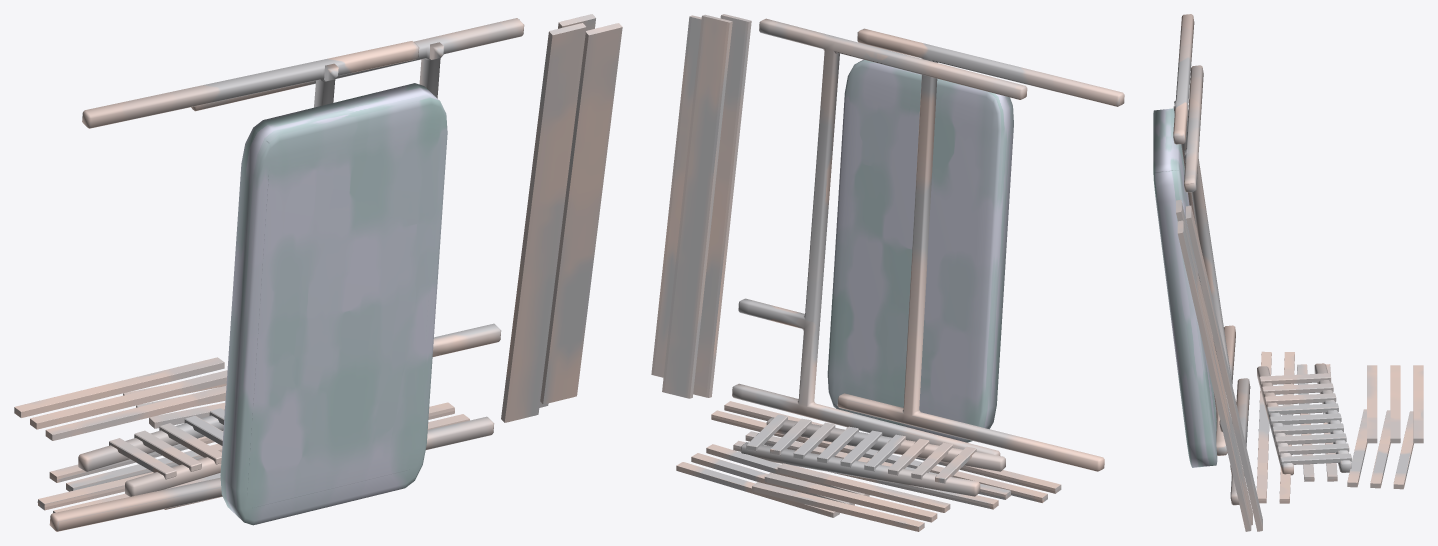
Rendered from Bunk-Bed-Disassembled.fbx.
The picture shows the model from 3 angles, left to right: view 1: azimuth 30°, elevation 25°; view 2: azimuth 150°, elevation 25°; view 3: azimuth 270°, elevation 25°; orthographic projection. The views are drawn at different scales.
Parts seen in each view (by area): view 1: mattress, frame, underframe; view 2: mattress, frame, underframe; view 3: frame, mattress, underframe.
Boxes of the visible parts, left/top/right/bottom form: mattress: left=220, top=83, right=447, bottom=525; frame: left=14, top=18, right=524, bottom=531; underframe: left=501, top=14, right=622, bottom=422; mattress: left=827, top=59, right=1013, bottom=442; frame: left=676, top=18, right=1124, bottom=531; underframe: left=651, top=14, right=751, bottom=398; frame: left=1173, top=14, right=1423, bottom=505; mattress: left=1153, top=108, right=1217, bottom=467; underframe: left=1176, top=199, right=1262, bottom=531.
Size of the model in its own units: 7.89 by 6.44 by 4.67.
Materials: 2 (2 with a texture image).
